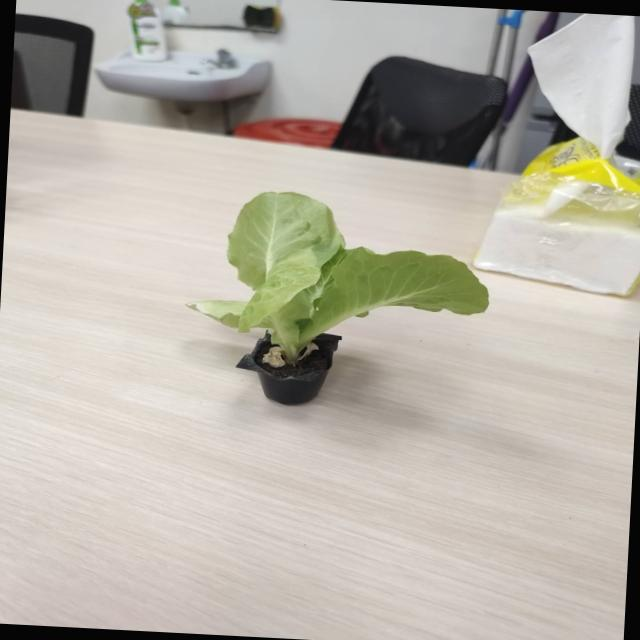Lettuce-Not-Ready-to-Harvest: (189, 193, 488, 366)
